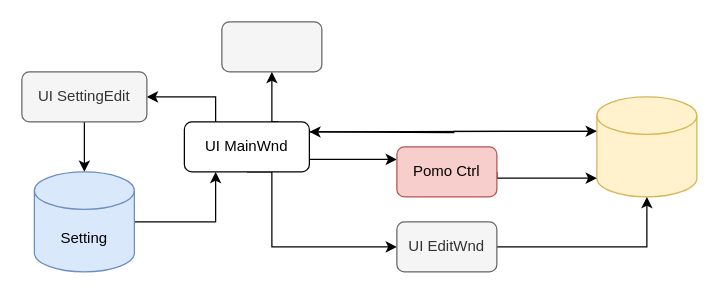
Image size: 719x294. Some labels were removed from this diagram. The shapes that lost their labels are listed below. From the top down, each one's centre as x and y in pixels, then its label:
(x=271, y=46): UI Classes
(x=646, y=146): Todolist
